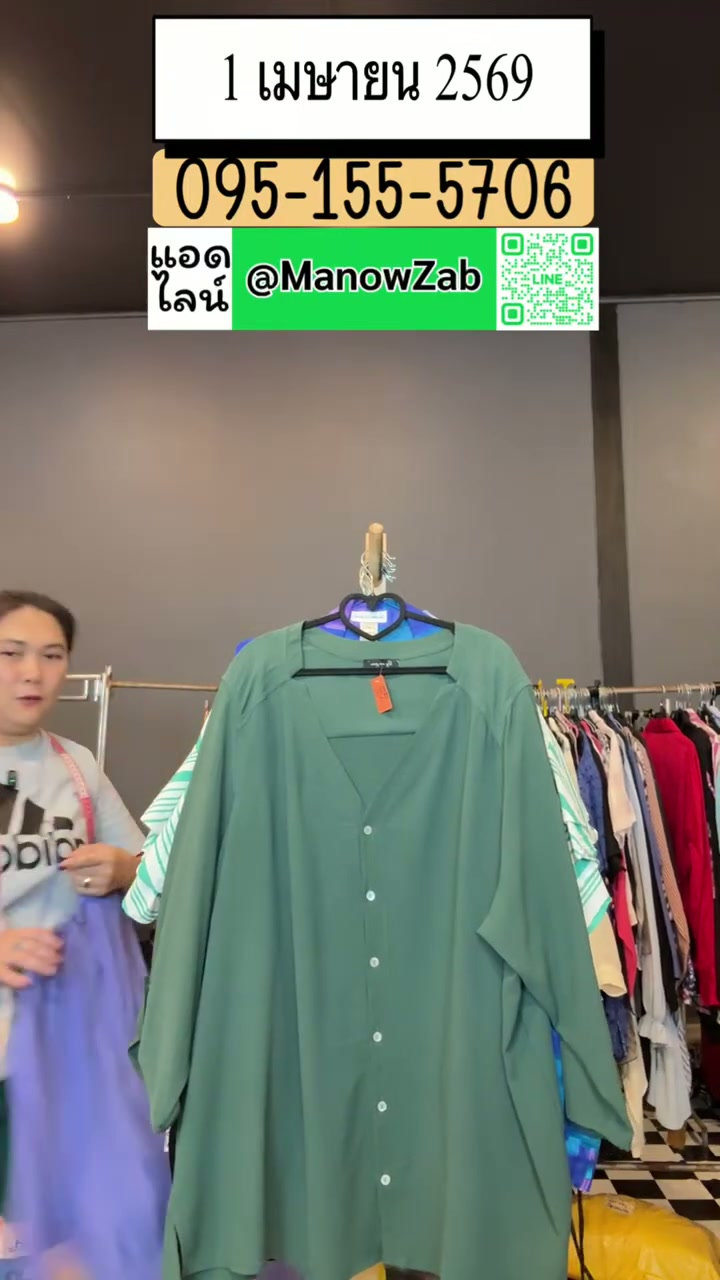display_shirt: (133, 620, 629, 1279)
